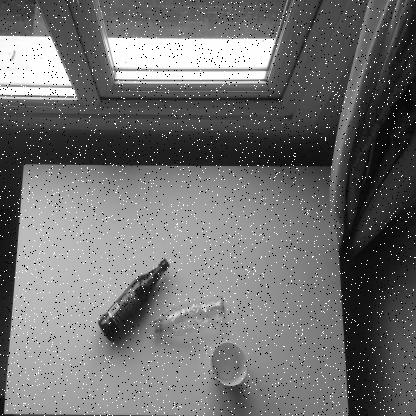cardboard: (210, 341, 248, 387)
glass: (97, 258, 170, 344)
plastic: (153, 295, 227, 339)
